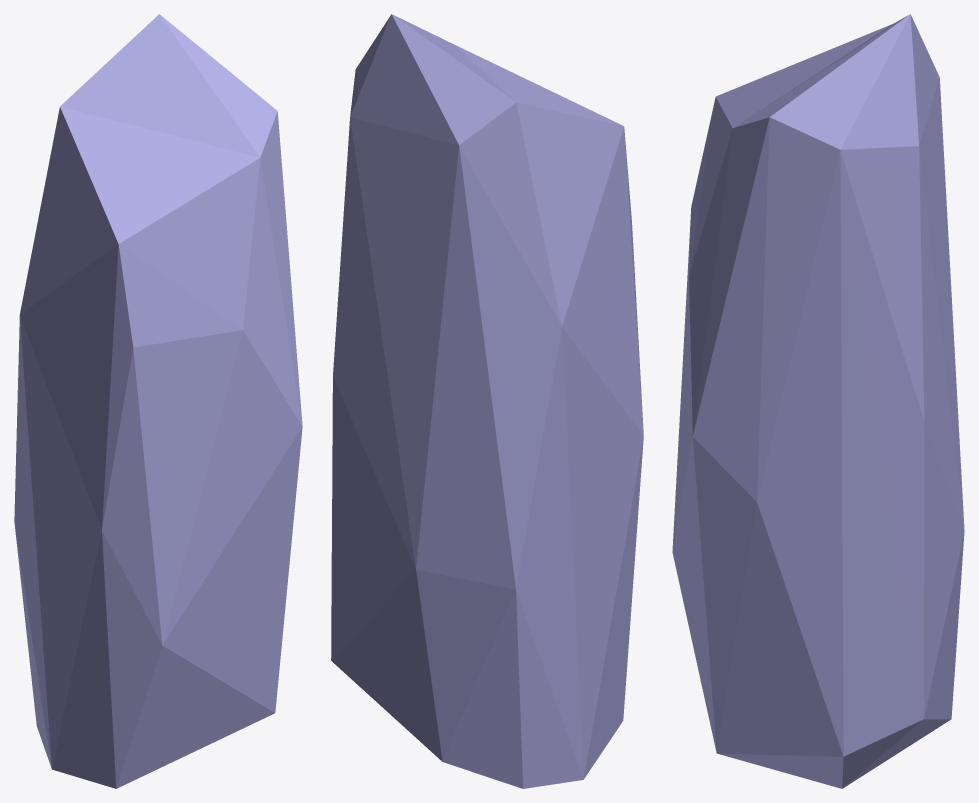
Rendered from Crystal_03.fbx.
3 views of the same model, side by side, from view 1: azimuth 30°, elevation 25°; view 2: azimuth 150°, elevation 25°; view 3: azimuth 270°, elevation 25° (orthographic). The views are drawn at different scales.
Parts seen in each view (by area): view 1: Crystal_03; view 2: Crystal_03; view 3: Crystal_03.
Part boxes in pixels (x1,y1,x2,y2): Crystal_03: (14, 14, 302, 788); Crystal_03: (331, 14, 643, 788); Crystal_03: (672, 14, 964, 788).
Size of the model in its own units: 0.9664 by 3 by 1.02.
